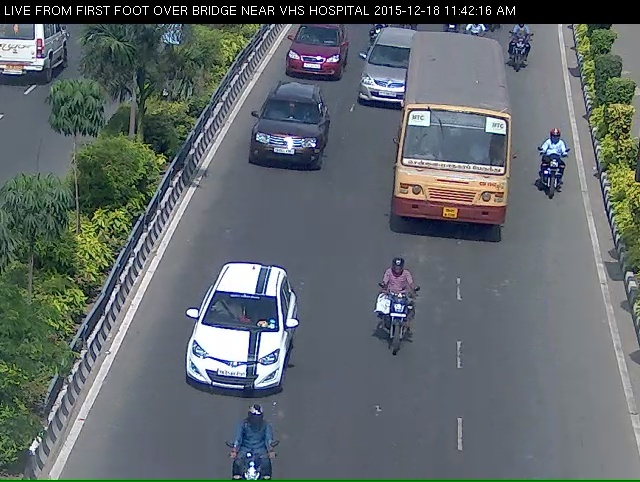Bus: (392, 42, 511, 251)
Car: (167, 274, 300, 415), (253, 95, 325, 186), (356, 37, 420, 116), (281, 23, 347, 85)
Person: (376, 284, 420, 377), (539, 135, 574, 214)
